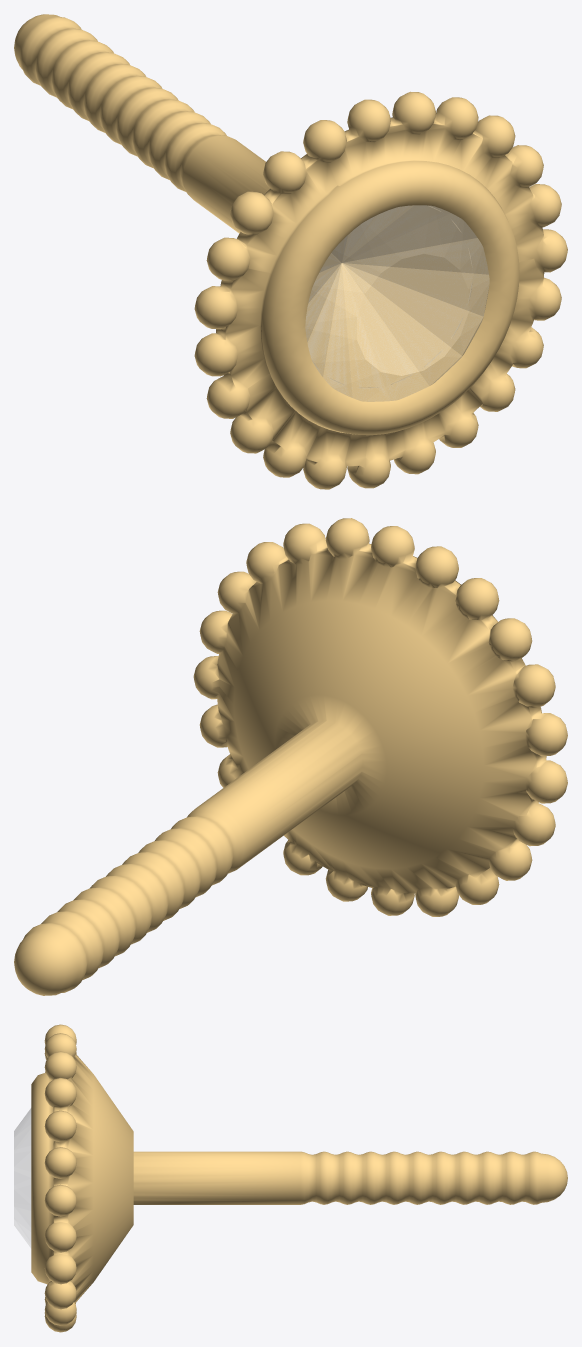
The model's file is nosepin_convertible_stud.glb.
3 views of the same model, one above another, from view 1: azimuth 30°, elevation 25°; view 2: azimuth 150°, elevation 25°; view 3: azimuth 270°, elevation 25° (orthographic). The views are drawn at different scales.
Visible parts, largest first — view 1: gold, stone; view 2: gold; view 3: gold, stone.
Part boxes in pixels (box(x1,y1,x2,y2)): gold: box(14, 14, 567, 489); stone: box(305, 205, 489, 401); gold: box(14, 518, 567, 995); gold: box(31, 1024, 567, 1332); stone: box(14, 1109, 30, 1247).
Size of the model in its own units: 0.0046 by 0.00461 by 0.00829.
